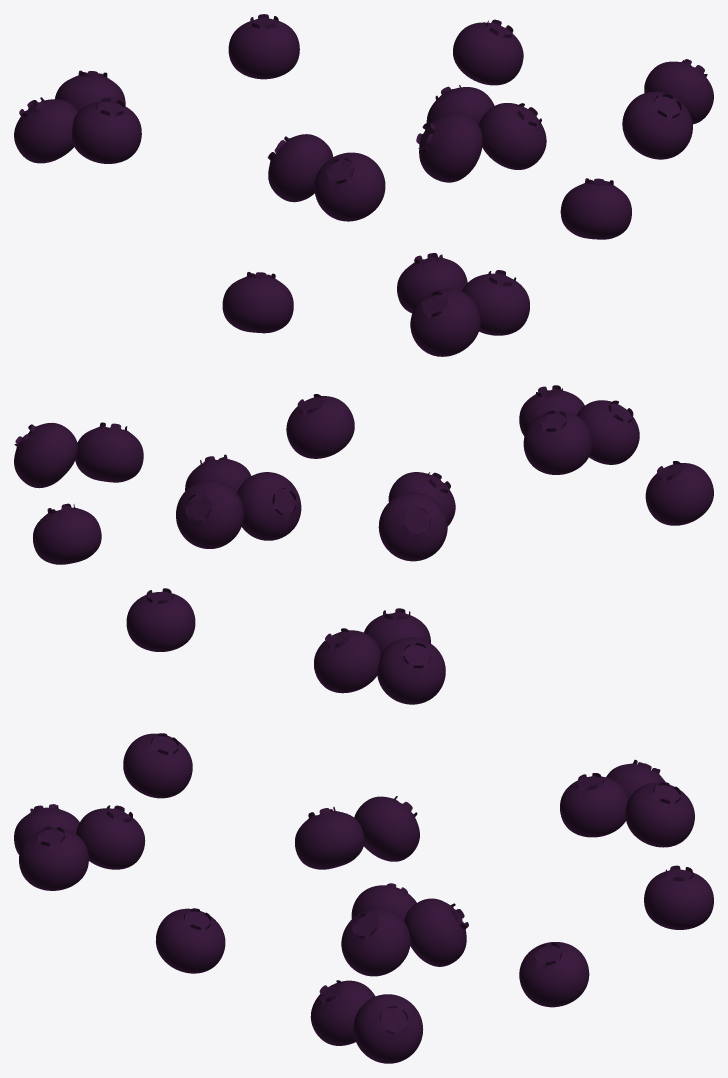
Rendered from DecoBlueberry.glb.
3 renders of one model, top to bottom at view 1: azimuth 30°, elevation 25°; view 2: azimuth 150°, elevation 25°; view 3: azimuth 270°, elevation 25°, orthographic. The views are drawn at different scales.
Visible parts, largest first — view 1: Sphere.010, Sphere, Sphere.011, Sphere.004, Sphere.008, Sphere.014, Sphere.015, Sphere.016, Sphere.006, Sphere.002, Sphere.003, Sphere.009 (+5 smaller); view 2: Sphere.009, Sphere.007, Sphere.003, Sphere.013, Sphere.008, Sphere.006, Sphere.002, Sphere.015, Sphere.005, Sphere.001, Sphere.014, Sphere (+5 smaller); view 3: Sphere.001, Sphere.016, Sphere.014, Sphere.002, Sphere.005, Sphere.006, Sphere.012, Sphere.015, Sphere.004, Sphere.010, Sphere.007, Sphere.013 (+5 smaller).
Boxes of the visible parts, box(x1,y1,x2,y2) form: Sphere.010: box(314, 152, 385, 221); Sphere: box(622, 91, 692, 159); Sphere.011: box(410, 288, 480, 356); Sphere.004: box(72, 98, 141, 163); Sphere.008: box(416, 112, 482, 182); Sphere.014: box(453, 19, 523, 85); Sphere.015: box(228, 14, 299, 79); Sphere.016: box(479, 103, 546, 169); Sphere.006: box(560, 178, 631, 239); Sphere.002: box(222, 272, 293, 333); Sphere.003: box(14, 97, 78, 163); Sphere.009: box(267, 134, 333, 202); Sphere.009: box(378, 492, 447, 561); Sphere.007: box(176, 480, 243, 548); Sphere.003: box(377, 637, 445, 704); Sphere.013: box(523, 410, 592, 474); Sphere.008: box(237, 472, 301, 540); Sphere.006: box(286, 394, 354, 458); Sphere.002: box(645, 461, 713, 525); Sphere.015: box(126, 588, 195, 651); Sphere.005: box(314, 628, 381, 693); Sphere.001: box(14, 422, 77, 488); Sphere.014: box(33, 503, 101, 564); Sphere: box(75, 422, 143, 482); Sphere.001: box(353, 994, 423, 1063); Sphere.016: box(341, 908, 410, 976); Sphere.014: box(519, 942, 589, 1007); Sphere.002: box(123, 733, 192, 798); Sphere.005: box(625, 782, 694, 847); Sphere.006: box(156, 908, 225, 973); Sphere.012: box(19, 826, 88, 890); Sphere.015: box(644, 865, 713, 929); Sphere.004: box(560, 773, 628, 837); Sphere.010: box(295, 807, 364, 869); Sphere.007: box(404, 898, 468, 966); Sphere.013: box(76, 805, 145, 869).
Size of the model in its own units: 1.27 by 0.1734 by 1.31.
